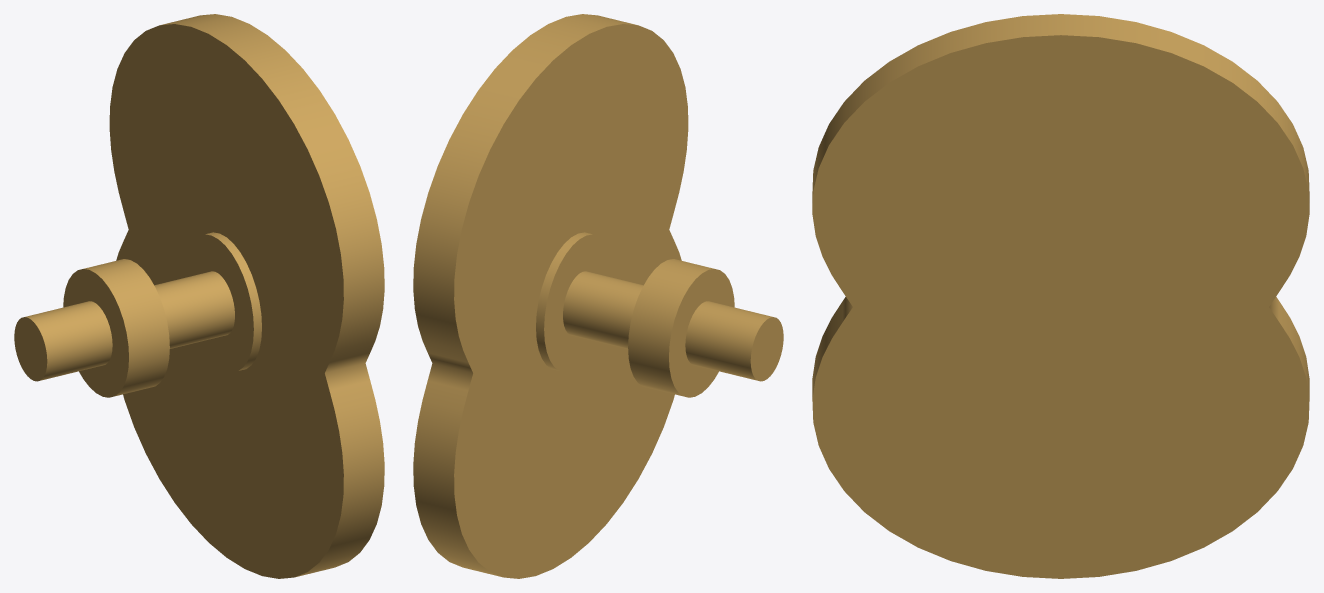
The model's file is key.glb.
3 renders of one model, left to right at view 1: azimuth 30°, elevation 25°; view 2: azimuth 150°, elevation 25°; view 3: azimuth 270°, elevation 25°, orthographic. The views are drawn at different scales.
Parts seen in each view (by area): view 1: key; view 2: key; view 3: key.
Boxes of the visible parts, x1=… form: key: x1=14, y1=14, x2=384, y2=578; key: x1=413, y1=14, x2=783, y2=578; key: x1=812, y1=14, x2=1309, y2=578.
Size of the model in its own units: 0.029 by 0.06 by 0.0497.
